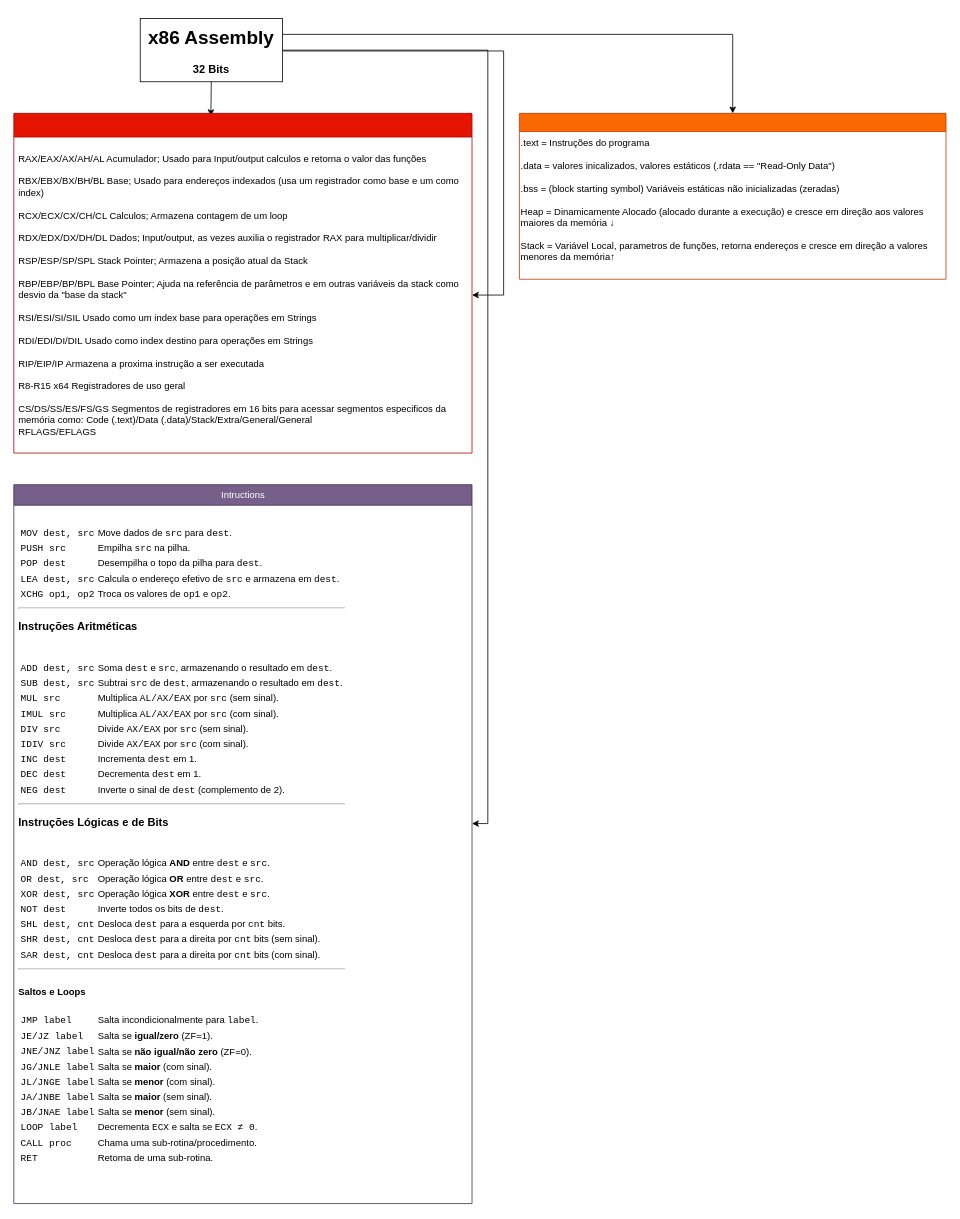
This 960x1219 diagram has some shape labels left out. The shapes that lost their labels are listed below. From the top down, each one's box as (x1, y1, x2, y2) in pixels, then its label:
(519, 113, 946, 279): Memória principal/RAM
(13, 113, 472, 453): Registers
